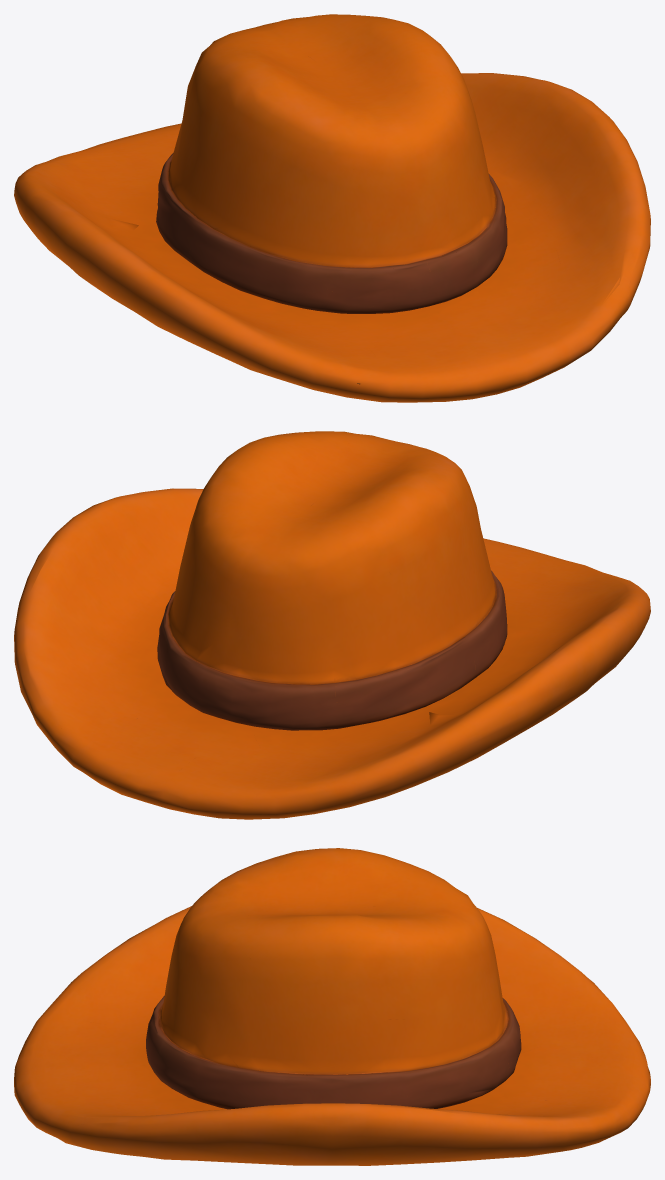
Rendered from hat_cowboy.glb.
3 renders of one model, top to bottom at view 1: azimuth 30°, elevation 25°; view 2: azimuth 150°, elevation 25°; view 3: azimuth 270°, elevation 25°, orthographic. The views are drawn at different scales.
Parts seen in each view (by area): view 1: geometry_0; view 2: geometry_0; view 3: geometry_0.
Part boxes in pixels (<box>): geometry_0: <box>14,14,650,402</box>; geometry_0: <box>14,431,650,819</box>; geometry_0: <box>14,848,650,1165</box>.
Bounding box in the file's own units: 0.8608 × 0.3545 × 0.9575.
1 material, 1 textured.
